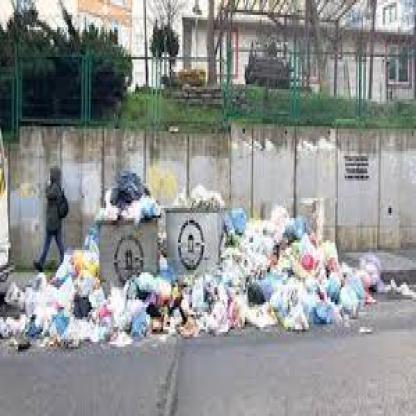Garbage: (294, 228, 356, 320), (227, 220, 288, 302), (16, 284, 84, 342), (102, 292, 178, 334), (98, 181, 162, 223), (190, 292, 238, 330), (66, 255, 86, 327)
